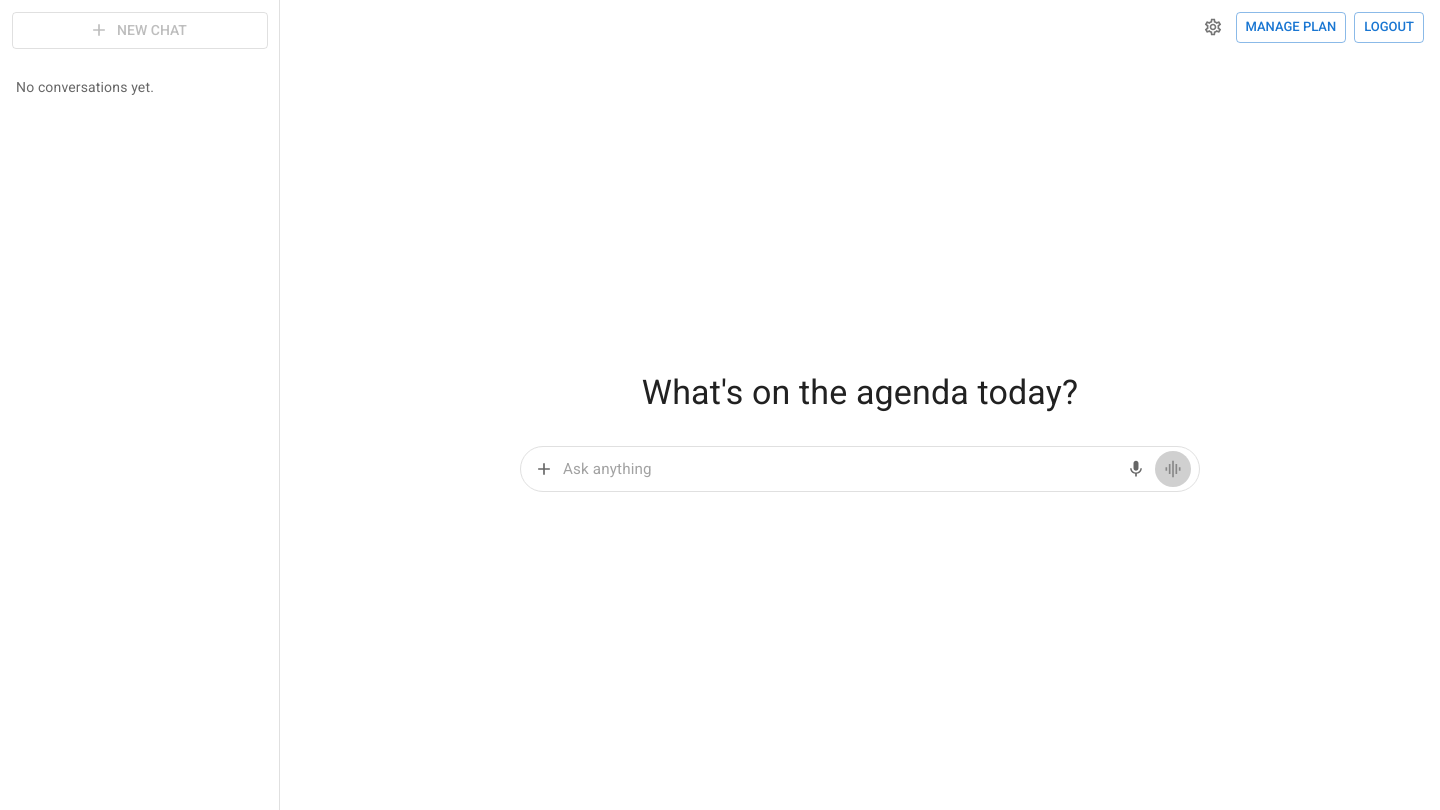
Test: returns to LoginPage after logout
Check: the field is shown, box [563, 454, 1121, 485]
Click the button "Logout": (1389, 27) [1354, 12, 1424, 43]
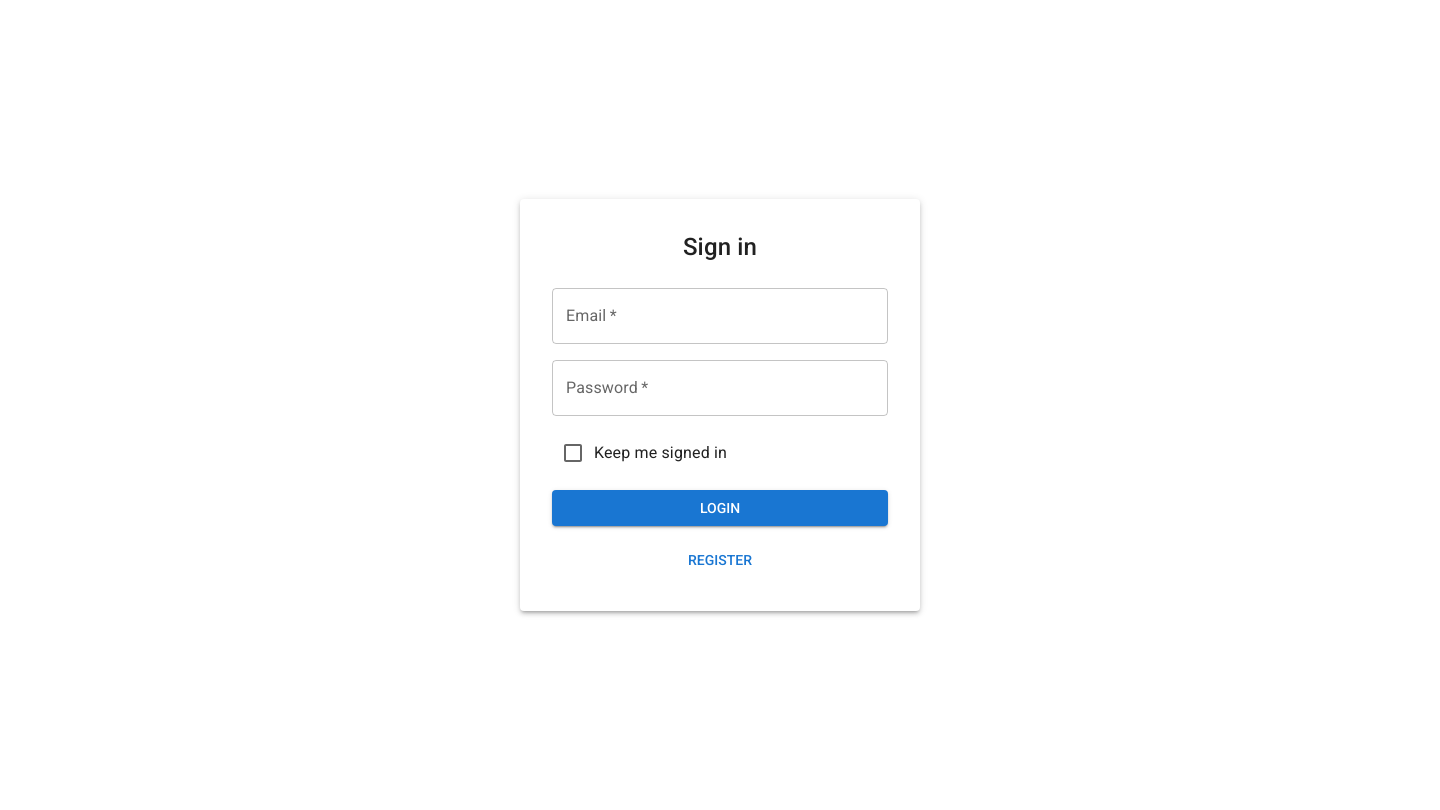
Check: the field labelled "Email *" is shown, box [552, 288, 888, 344]
